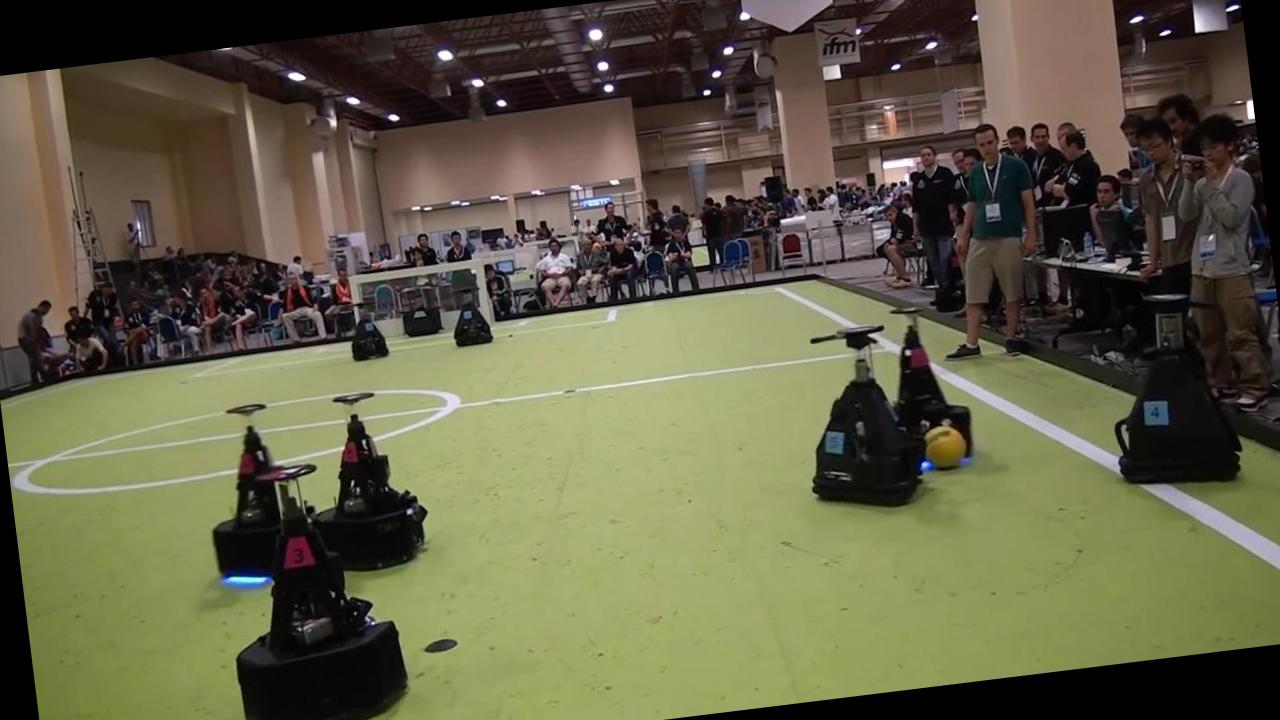ball: (924, 423, 968, 469)
goal: (473, 259, 494, 321)
person: (947, 124, 1038, 359)
robot: (236, 463, 408, 720), (1114, 293, 1240, 483), (812, 323, 926, 505), (315, 391, 427, 570), (212, 402, 281, 577), (895, 309, 972, 452), (398, 285, 442, 338), (453, 291, 493, 346), (351, 318, 390, 362)
